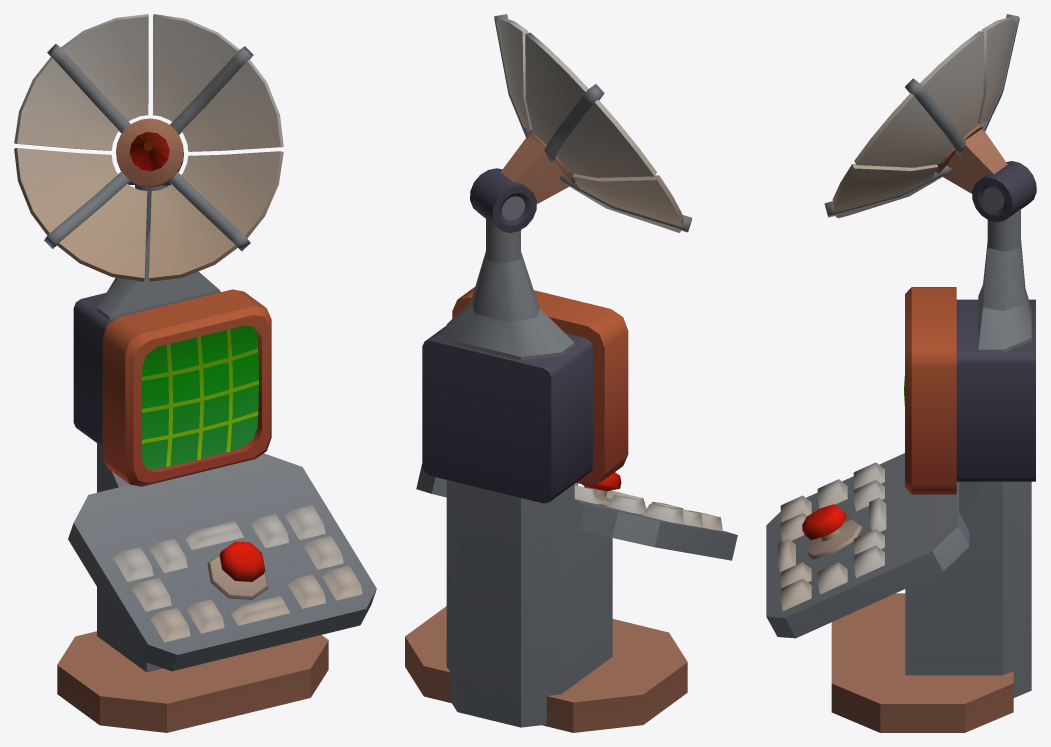
The model's file is AviaStrikeTerminal.fbx.
The picture shows the model from 3 angles, left to right: view 1: azimuth 30°, elevation 25°; view 2: azimuth 150°, elevation 25°; view 3: azimuth 270°, elevation 25°; orthographic projection. The views are drawn at different scales.
Visible parts, largest first — view 1: AviaStrikeTerminal, Antennas; view 2: AviaStrikeTerminal, Antennas; view 3: AviaStrikeTerminal, Antennas.
Part boxes in pixels (<box>): AviaStrikeTerminal: <box>57,185,376,732</box>; Antennas: <box>14,14,283,281</box>; AviaStrikeTerminal: <box>405,218,737,732</box>; Antennas: <box>470,14,691,232</box>; AviaStrikeTerminal: <box>766,209,1035,732</box>; Antennas: <box>824,14,1036,222</box>.
Bounding box in the file's own units: 229 × 540 × 206.
